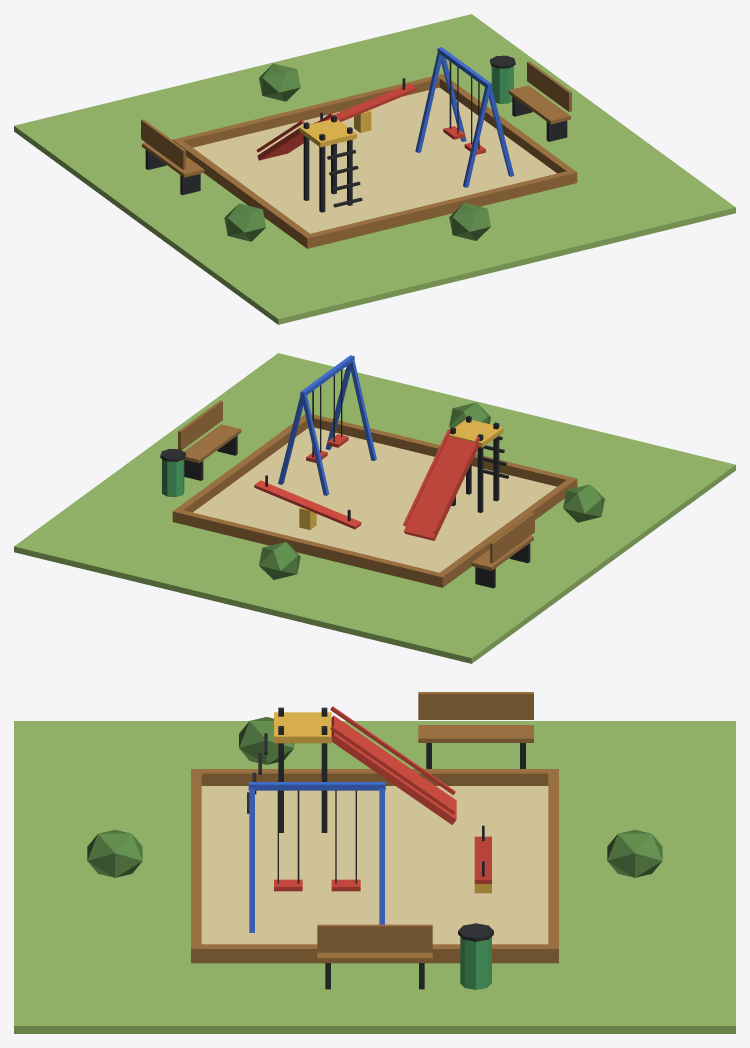
The model's file is Park_cim_oyun_Hafif.fbx.
The picture shows the model from 3 angles, top to bottom: view 1: azimuth 30°, elevation 25°; view 2: azimuth 150°, elevation 25°; view 3: azimuth 270°, elevation 25°; orthographic projection. The views are drawn at different scales.
Parts seen in each view (by area): view 1: Park_cim_oyun_Hafif; view 2: Park_cim_oyun_Hafif; view 3: Park_cim_oyun_Hafif.
Part boxes in pixels (left/top/right/bottom): Park_cim_oyun_Hafif: left=14, top=14, right=735, bottom=324; Park_cim_oyun_Hafif: left=14, top=353, right=735, bottom=663; Park_cim_oyun_Hafif: left=14, top=692, right=735, bottom=1033.
Size of the model in its own units: 10 by 2.19 by 10.
